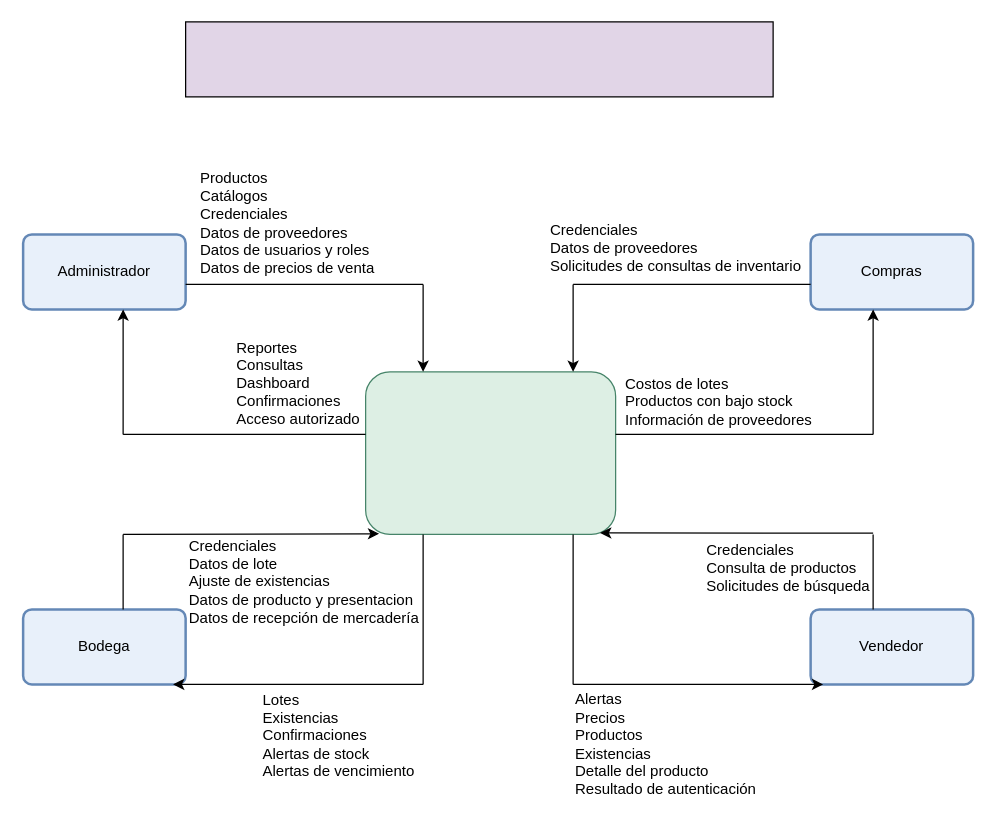
Image size: 995x821. Some labels were removed from this diagram. Each missing label, with the centre of its shape:
"0 TAMACHIHUA - ERP MÓDULO DE INVENTARIO" goes at (x=490, y=452).
"DFD - NIVEL 0" goes at (x=478, y=59).
